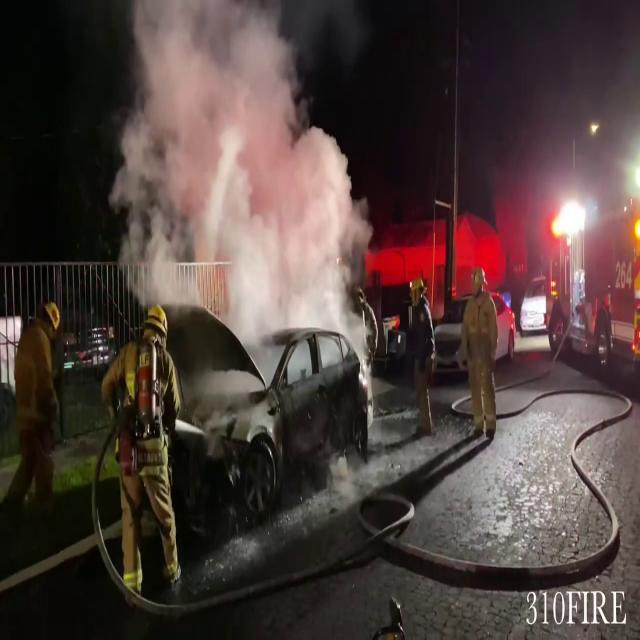Smoke: (106, 1, 371, 338)
